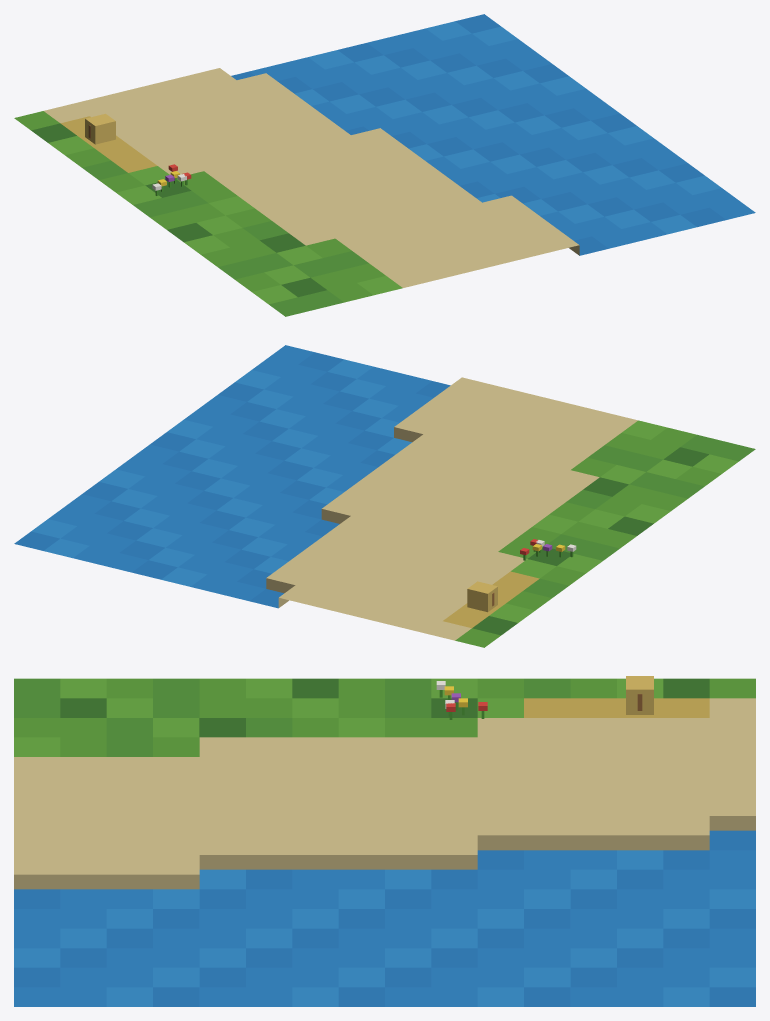
Rendered from chunk_11_10.glb.
The picture shows the model from 3 angles, top to bottom: view 1: azimuth 30°, elevation 25°; view 2: azimuth 150°, elevation 25°; view 3: azimuth 270°, elevation 25°; orthographic projection. The views are drawn at different scales.
Visible parts, largest first — view 1: chunk_11_10; view 2: chunk_11_10; view 3: chunk_11_10.
Boxes of the visible parts, x1,y1,x2,y2 form: chunk_11_10: [14, 14, 755, 316]; chunk_11_10: [14, 345, 755, 647]; chunk_11_10: [14, 676, 755, 1006].
Bounding box in the file's own units: 16 × 0.95 × 16.
